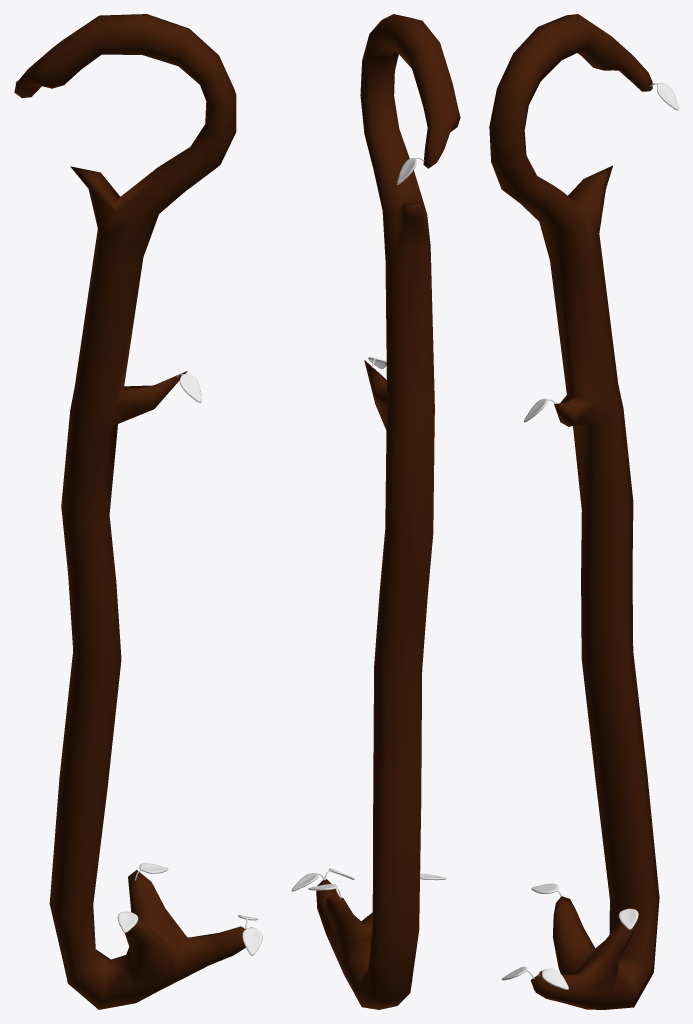
Rendered from wand fbx.fbx.
The picture shows the model from 3 angles, left to right: view 1: azimuth 30°, elevation 25°; view 2: azimuth 150°, elevation 25°; view 3: azimuth 270°, elevation 25°; orthographic projection. The views are drawn at different scales.
Parts seen in each view (by area): view 1: Box001; view 2: Box001; view 3: Box001.
Part boxes in pixels (box(x1,y1,x2,y2)): Box001: box(14, 14, 245, 1009); Box001: box(316, 14, 460, 1009); Box001: box(489, 14, 659, 1009).
Bounding box in the file's own units: 52.61 × 259 × 45.08.
